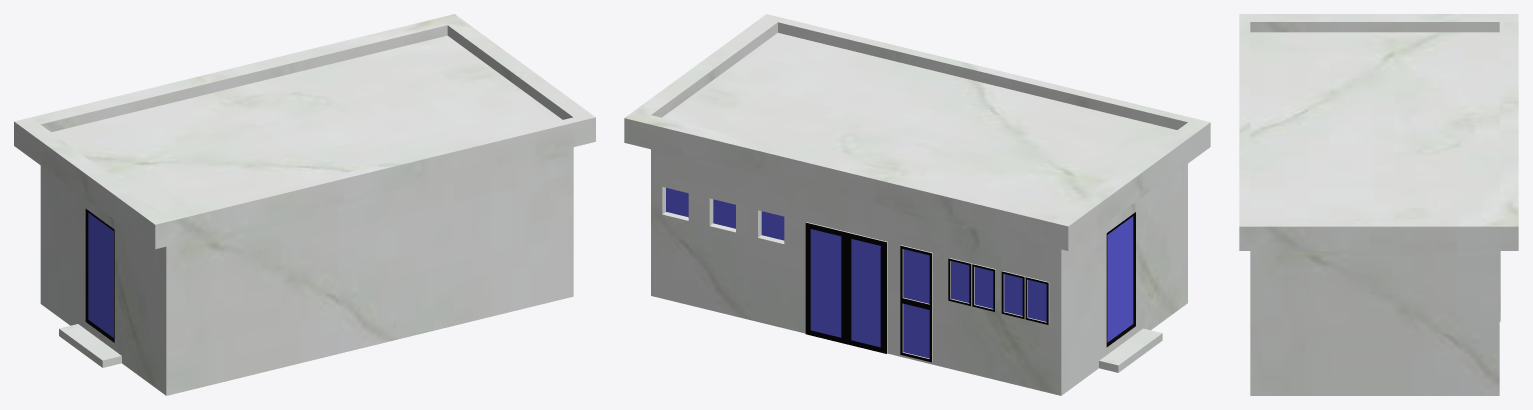
The model's file is Nhabaove.fbx.
The picture shows the model from 3 angles, left to right: view 1: azimuth 30°, elevation 25°; view 2: azimuth 150°, elevation 25°; view 3: azimuth 270°, elevation 25°; orthographic projection.
Parts seen in each view (by area): view 1: Group1; view 2: Group1; view 3: Group1.
Part boxes in pixels (<box>): Group1: <box>14,14,595,395</box>; Group1: <box>624,14,1210,395</box>; Group1: <box>1239,14,1518,395</box>.
Bounding box in the file's own units: 8418 × 3256 × 4647.
